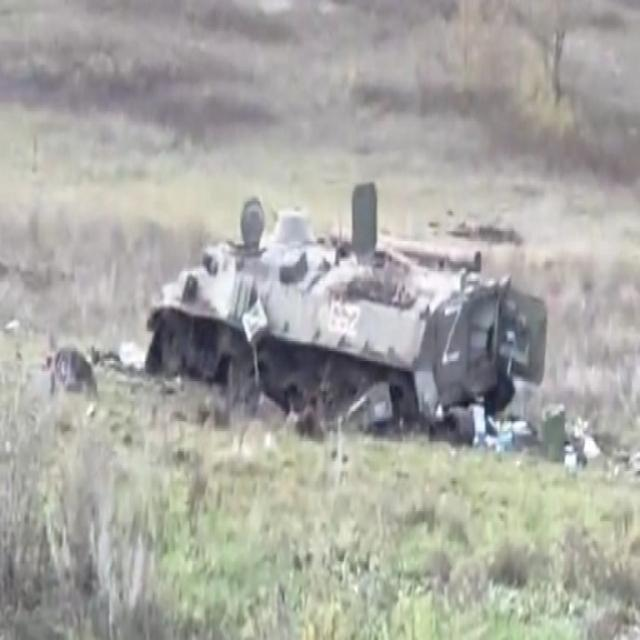APC-IFV: (138, 167, 546, 453)
